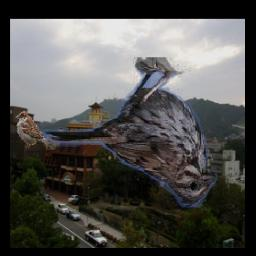Sparrow: (41, 58, 218, 211), (16, 111, 50, 149)
